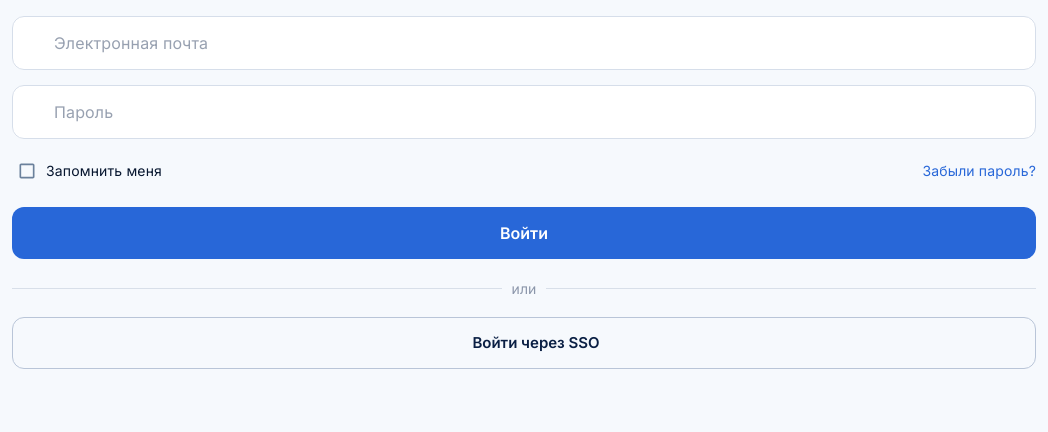
Test: LoginForm (component) › shows validation errors when fields are empty
Click the button "Войти": (524, 233) left=12, top=207, right=1036, bottom=259
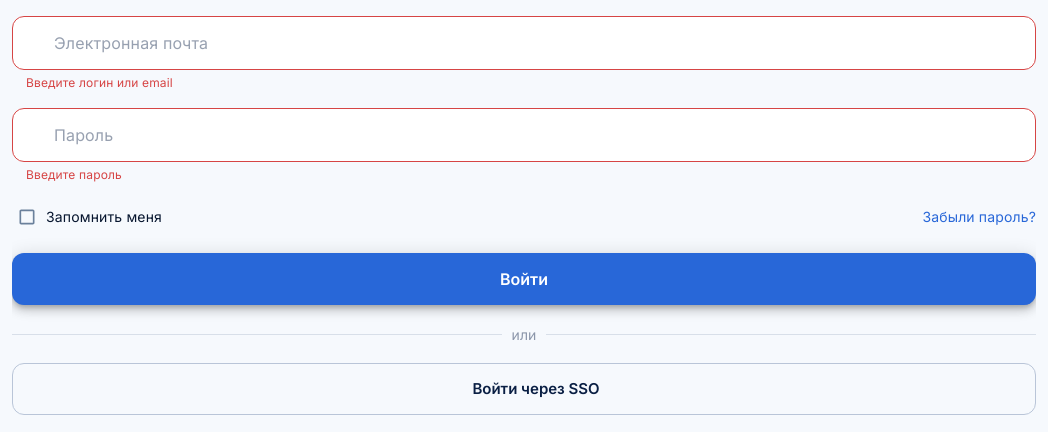
Expected: the text "Введите логин или email" is shown, left=26, top=75, right=173, bottom=90
Expected: the text "Введите пароль" is shown, left=26, top=167, right=122, bottom=182
